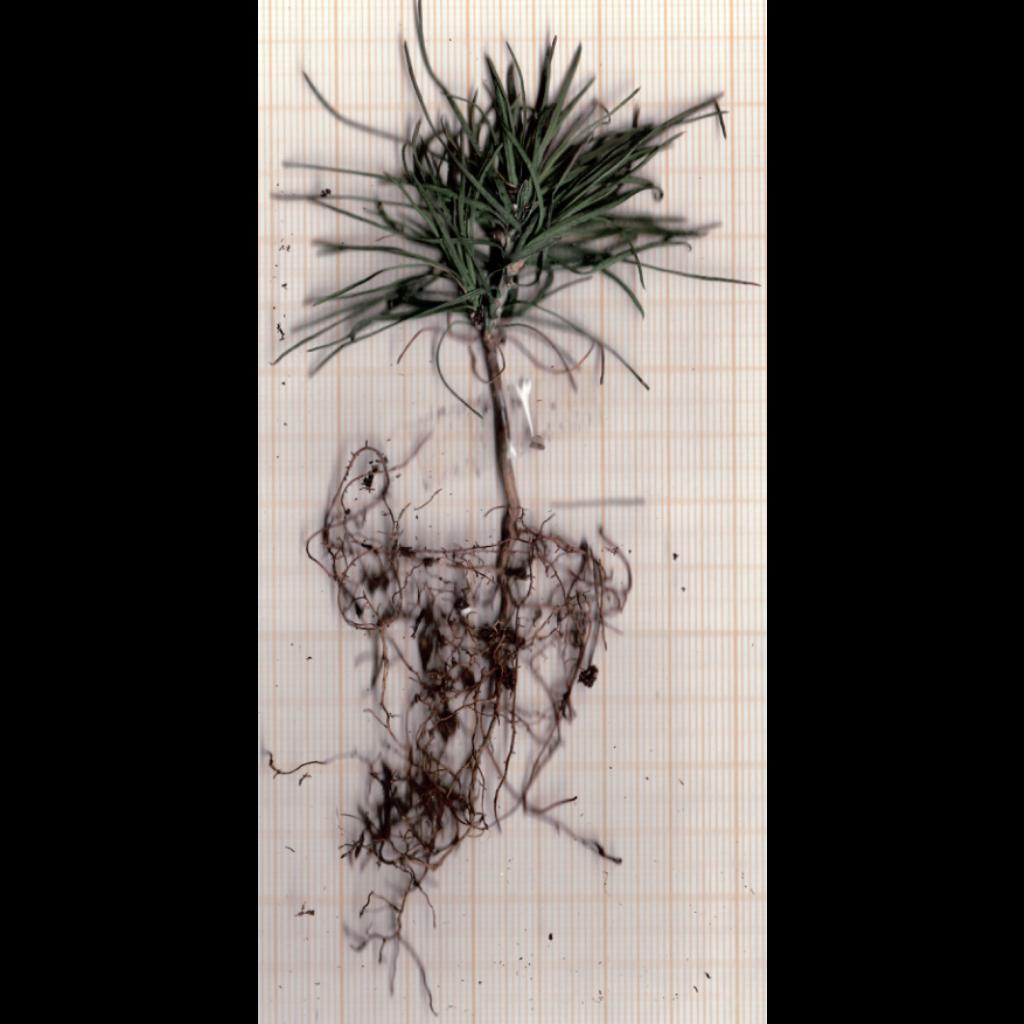flowerCedr: (276, 0, 759, 416)
rootCedr: (308, 445, 630, 983)
stemCedr: (481, 328, 520, 524)
